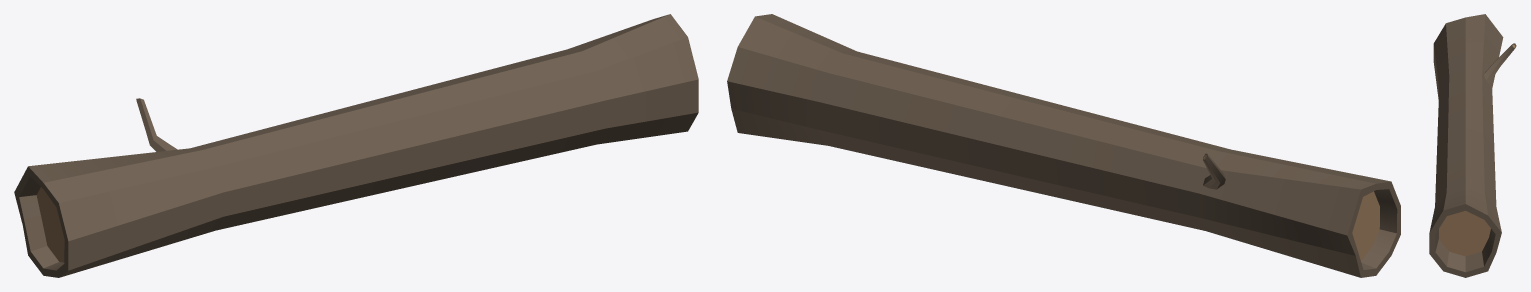
File: Log_Mesh.fbx
The picture shows the model from 3 angles, left to right: view 1: azimuth 30°, elevation 25°; view 2: azimuth 150°, elevation 25°; view 3: azimuth 270°, elevation 25°; orthographic projection. The views are drawn at different scales.
Parts seen in each view (by area): view 1: FallenLog_Mesh; view 2: FallenLog_Mesh; view 3: FallenLog_Mesh.
Part boxes in pixels (x1,y1,x2,y2): FallenLog_Mesh: [14, 14, 698, 277]; FallenLog_Mesh: [727, 14, 1400, 277]; FallenLog_Mesh: [1429, 14, 1516, 277].
Bounding box in the file's own units: 434 × 81.95 × 81.08.
